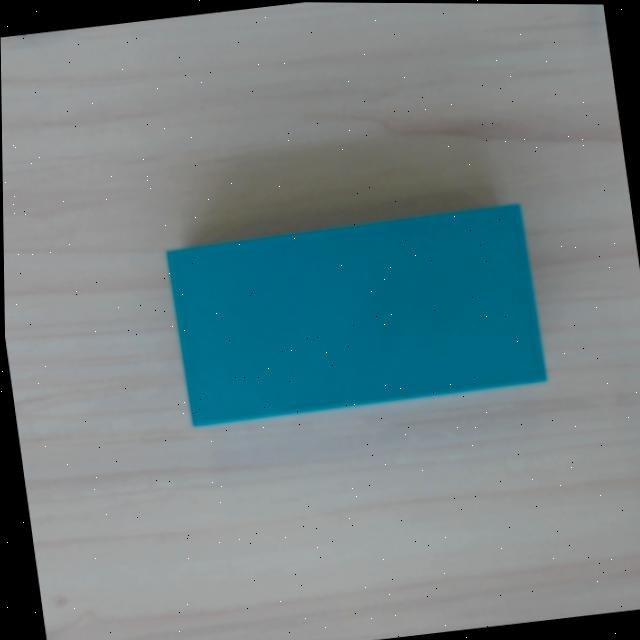Balok-Hijau-1005025: (166, 203, 546, 426)
